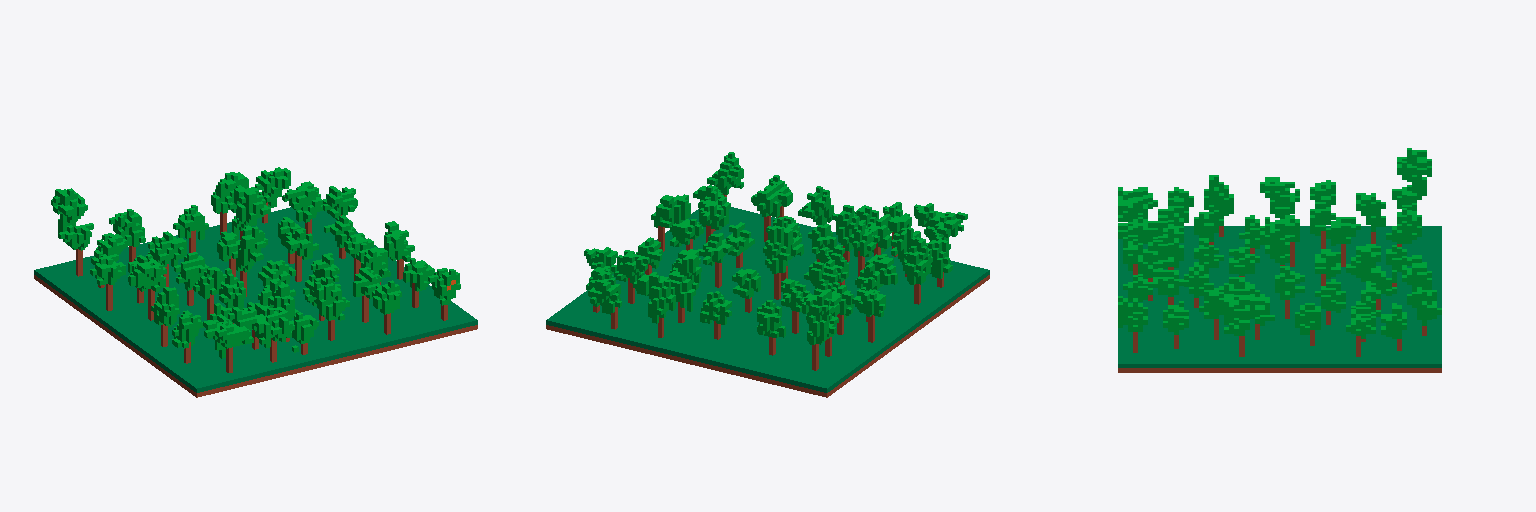
The picture shows the model from 3 angles: view 1: azimuth 30°, elevation 25°; view 2: azimuth 150°, elevation 25°; view 3: azimuth 270°, elevation 25°; orthographic projection.
Parts seen in each view (by area): view 1: object 1; view 2: object 1; view 3: object 1.
Part boxes in pixels (left/top/right/bottom): object 1: left=34, top=167, right=477, bottom=397; object 1: left=546, top=152, right=989, bottom=397; object 1: left=1118, top=148, right=1441, bottom=372.
Size of the model in its own units: 6.4 by 2.1 by 6.4.
Materials: 1 (1 with a texture image).